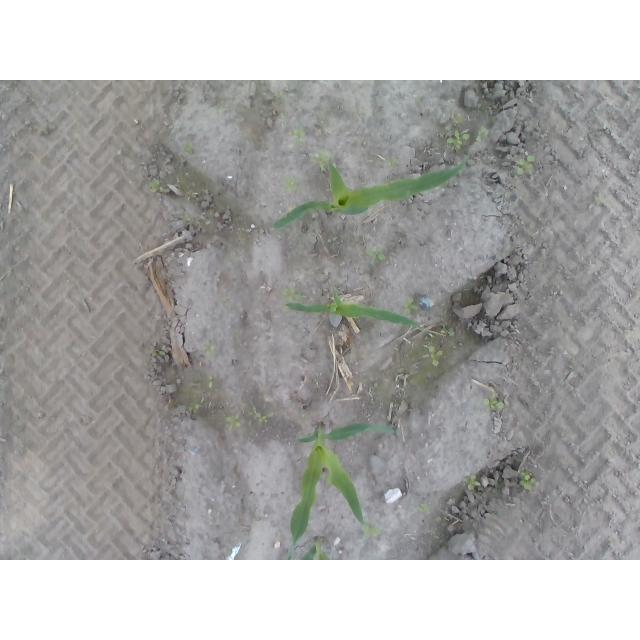Maize: (287, 420, 395, 560), (271, 155, 469, 231), (285, 286, 418, 328)
Weeds: (516, 155, 537, 178), (446, 127, 470, 146), (428, 344, 445, 369), (282, 287, 305, 304), (249, 407, 271, 423), (368, 244, 385, 264), (484, 396, 505, 410), (224, 416, 240, 432), (404, 297, 417, 315), (520, 471, 532, 490), (465, 475, 480, 490), (475, 126, 489, 142), (202, 339, 215, 353), (287, 176, 297, 193), (318, 152, 330, 165), (385, 159, 399, 170), (288, 129, 305, 138), (183, 143, 193, 156), (151, 180, 161, 193), (189, 402, 199, 414), (368, 526, 383, 534), (207, 376, 214, 389), (184, 191, 192, 201), (155, 349, 166, 356), (420, 504, 429, 512)
